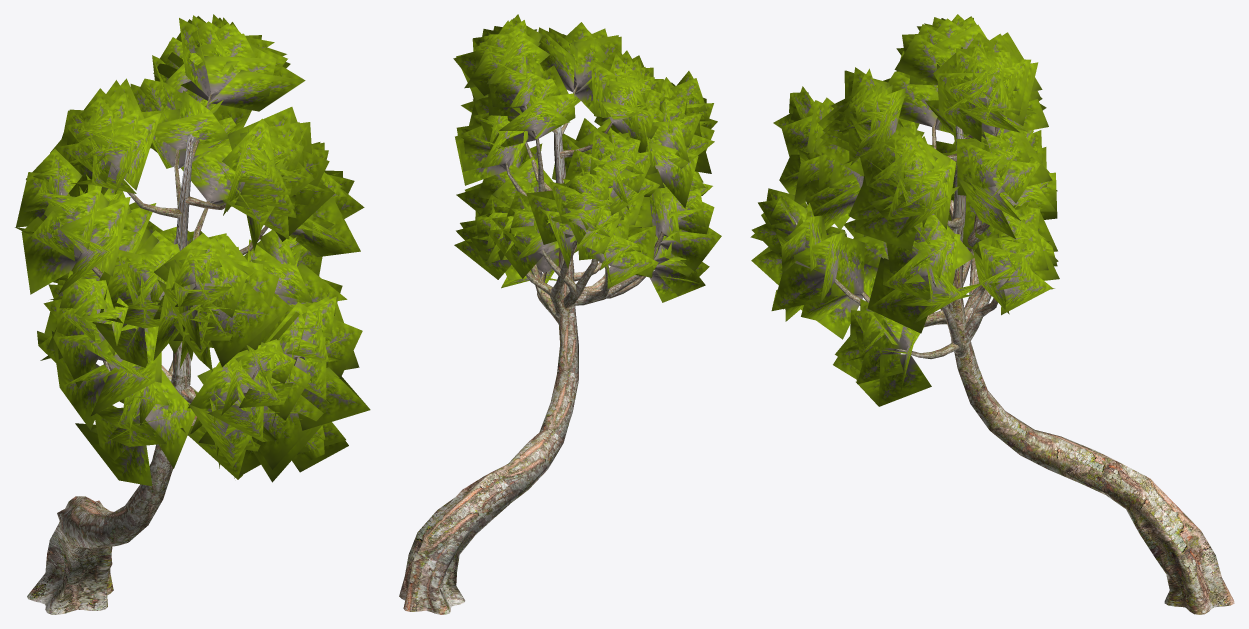
File: Tree_01.obj
3 renders of one model, left to right at view 1: azimuth 30°, elevation 25°; view 2: azimuth 150°, elevation 25°; view 3: azimuth 270°, elevation 25°, orthographic. The views are drawn at different scales.
Parts seen in each view (by area): view 1: bark12, oak branch; view 2: bark12, oak branch; view 3: bark12, oak branch.
Boxes of the visible parts, x1,y1,x2,y2 form: bark12: [15, 14, 370, 486]; oak branch: [27, 93, 297, 614]; bark12: [453, 14, 721, 302]; oak branch: [399, 85, 664, 614]; bark12: [750, 14, 1059, 406]; oak branch: [792, 114, 1234, 614].
Size of the model in its own units: 82.52 by 163 by 126.
2 materials, 2 textured.
